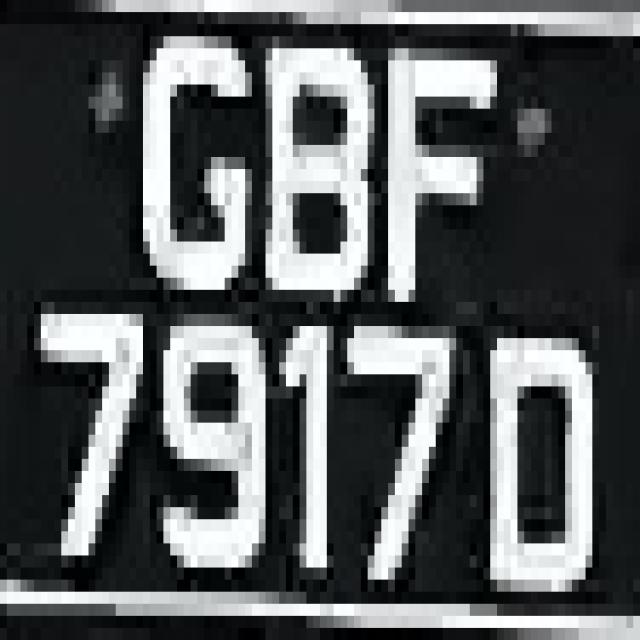1: (279, 314, 347, 604)
7: (13, 278, 156, 568), (334, 254, 456, 592)
9: (136, 278, 272, 616)
B: (259, 0, 388, 326)
D: (483, 290, 606, 604)
F: (381, 12, 504, 302)
G: (122, 12, 258, 314)
